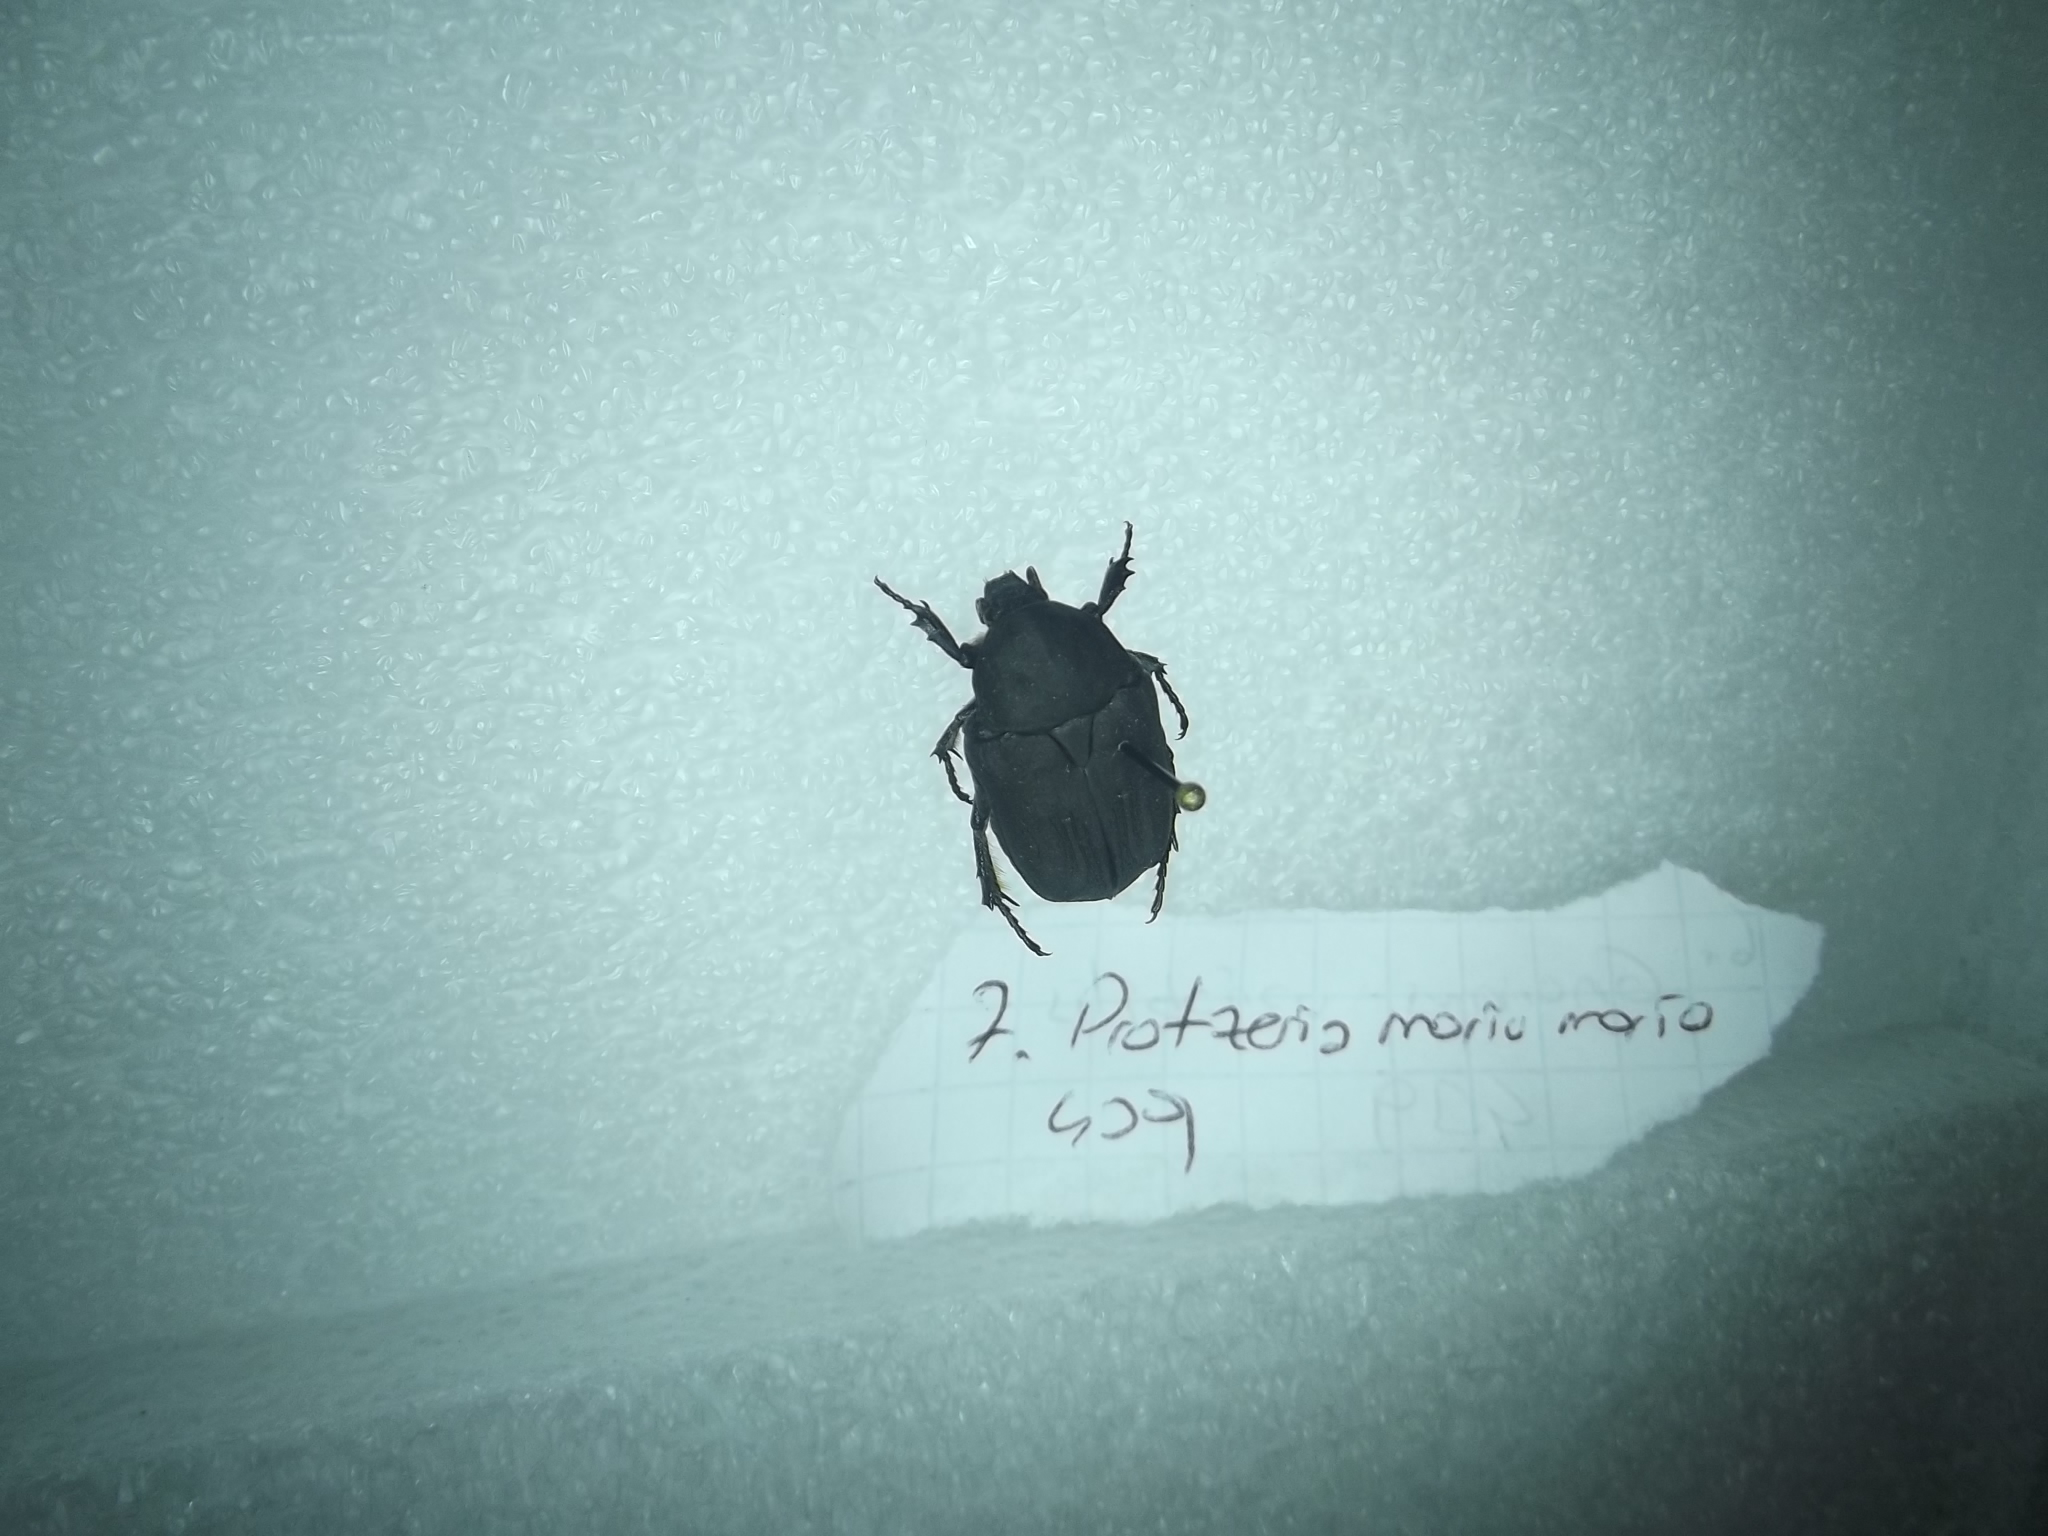Protaetia_morio_morio: (860, 516, 1193, 962)
